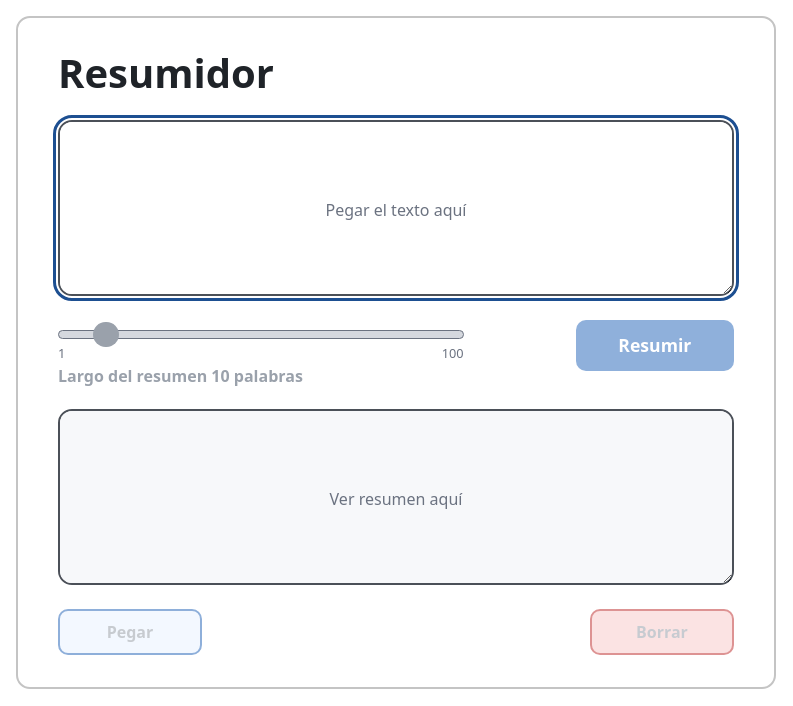
it: SummarizePage › bloquea la entrada mientras carga
Type "texto" into the text box named "Texto a resumir" at point(396, 208), box top-left (58, 120), bottom-right (734, 296)
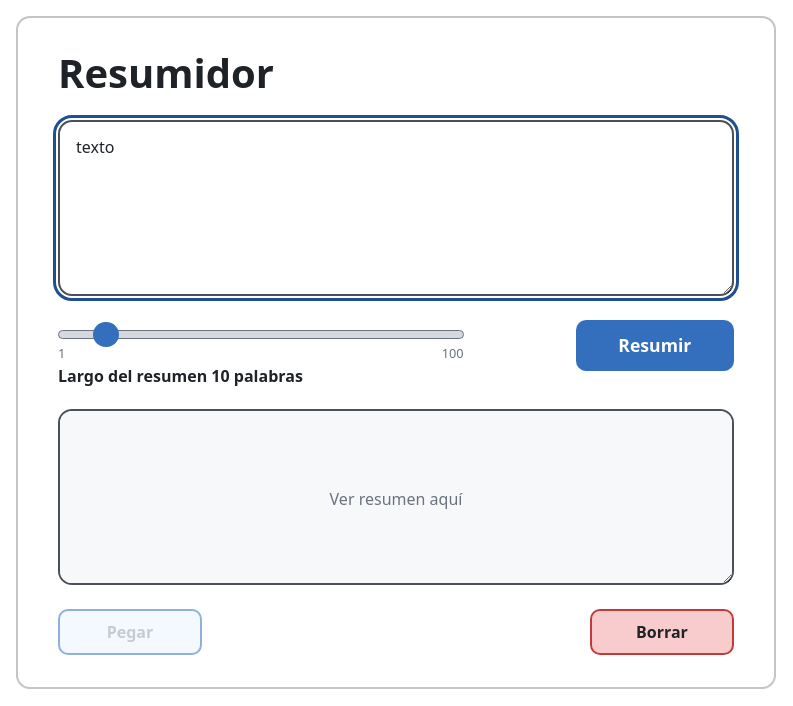
Click the button "Resumir" at point(655, 345), box top-left (576, 320), bottom-right (734, 371)
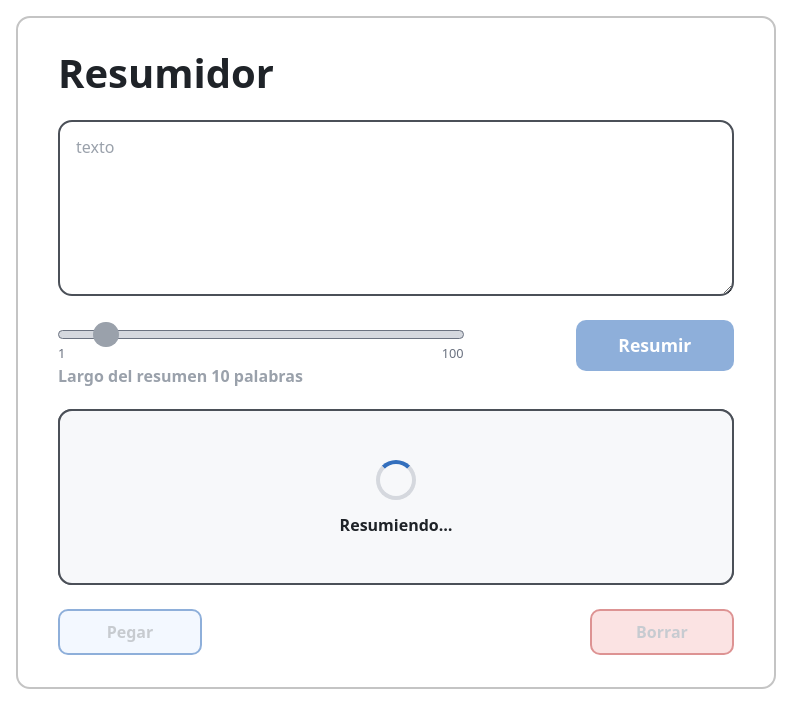
expect the text "Resumiendo…" is shown: met, box top-left (340, 516), bottom-right (452, 534)
expect the text box named "Texto a resumir" is disabled: met, box top-left (58, 120), bottom-right (734, 296)
expect the button "Resumir" is disabled: met, box top-left (576, 320), bottom-right (734, 371)
